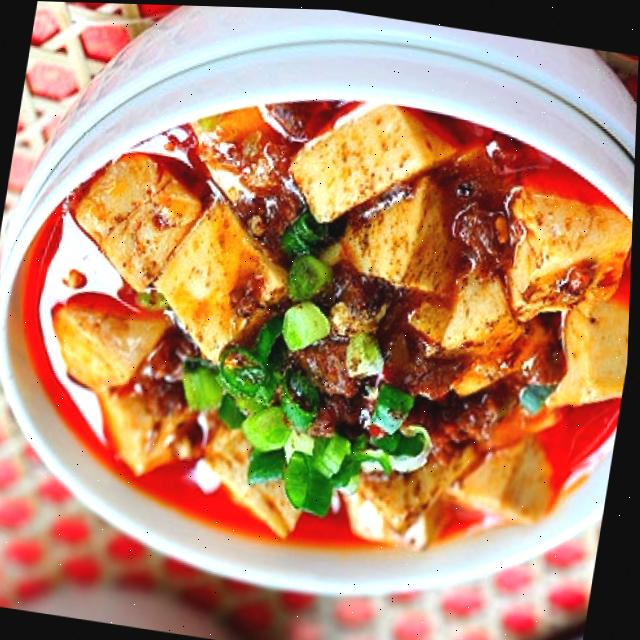豆腐料理: (0, 42, 639, 603)
